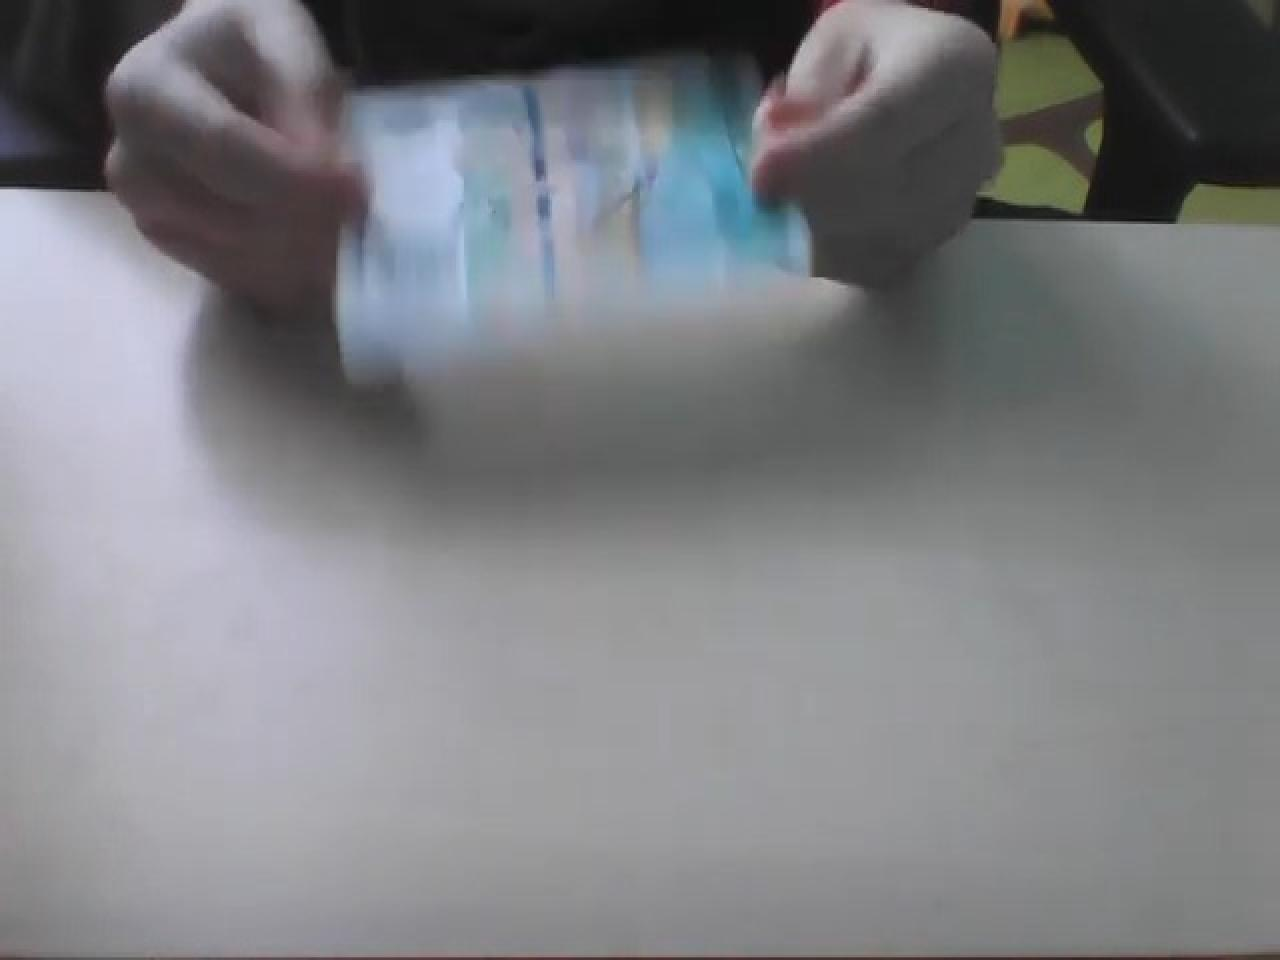100leva: (328, 45, 833, 410)
